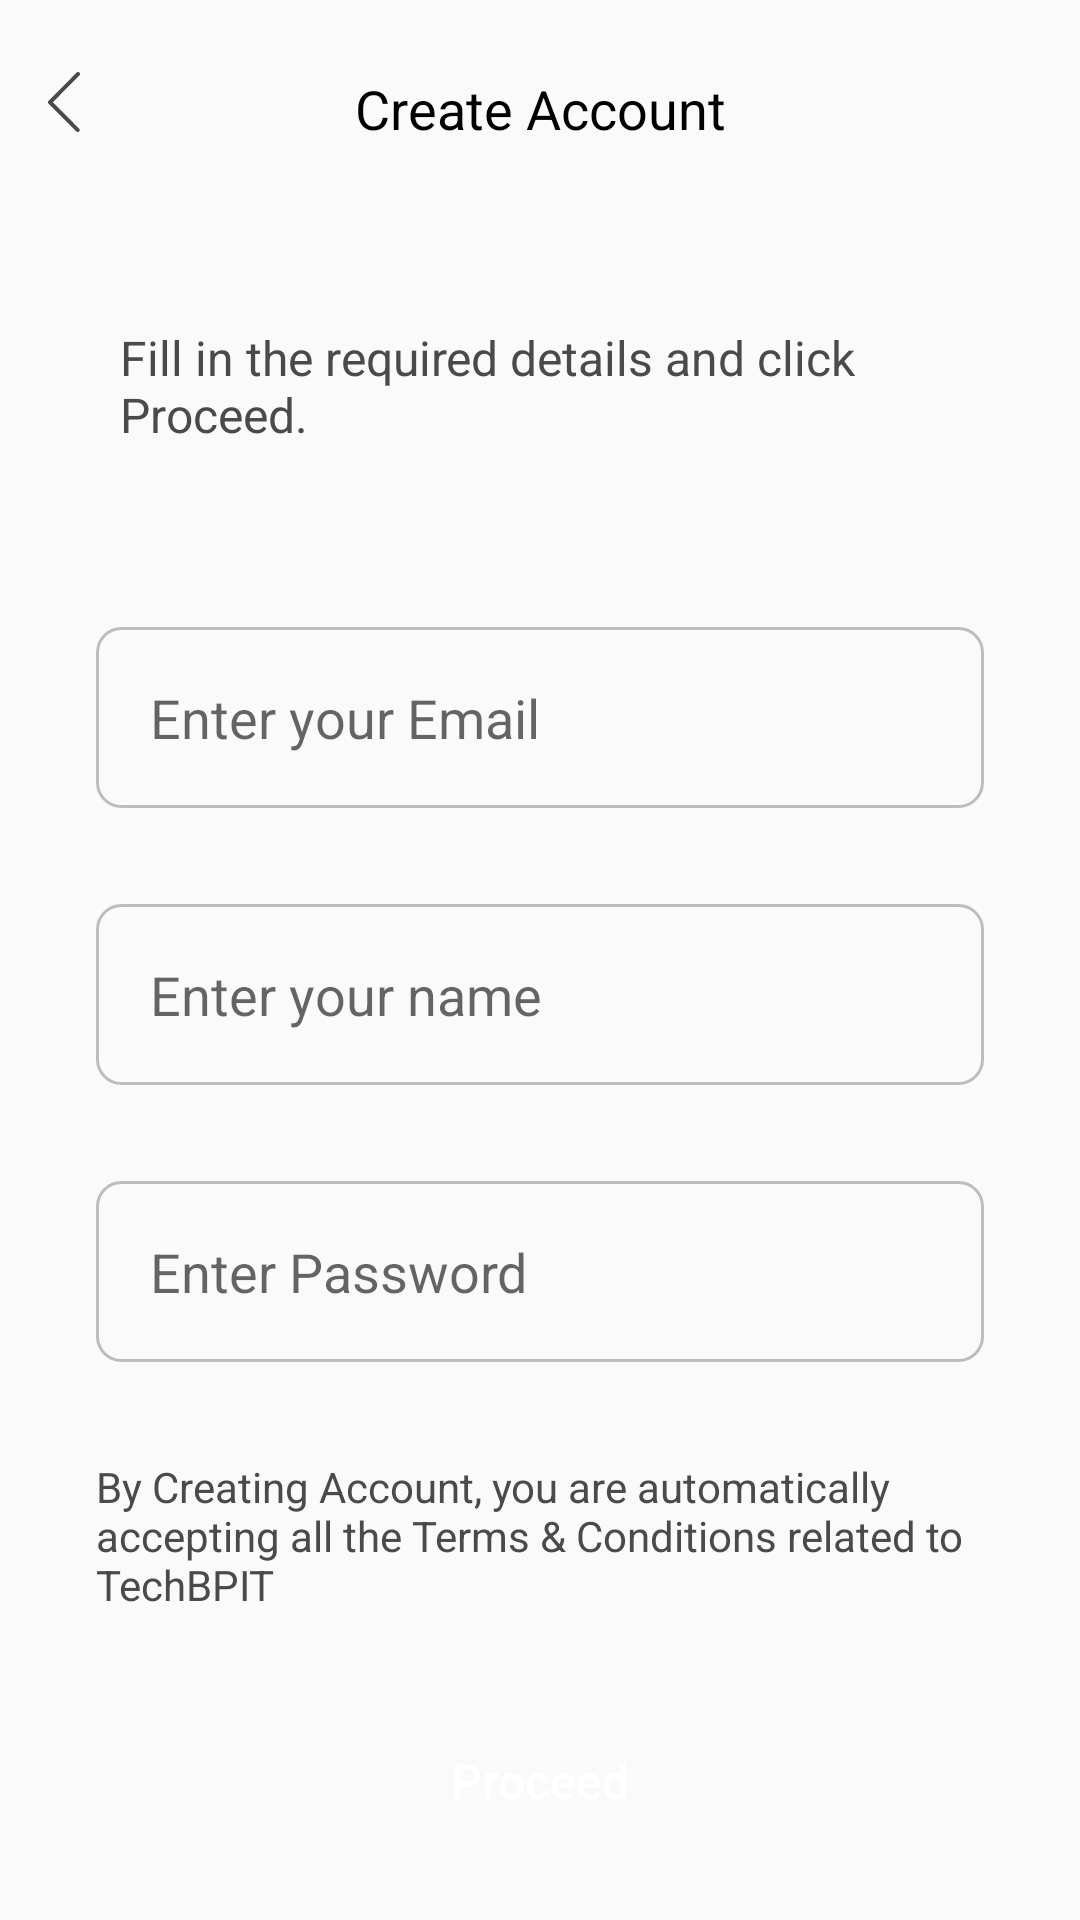

Icon bounding boxes for this 1080px×1920px phone screenshot, format [x1=x1, y1=y1, x2=x2, y2=y2]:
back post: [x1=48, y1=72, x2=80, y2=132]
